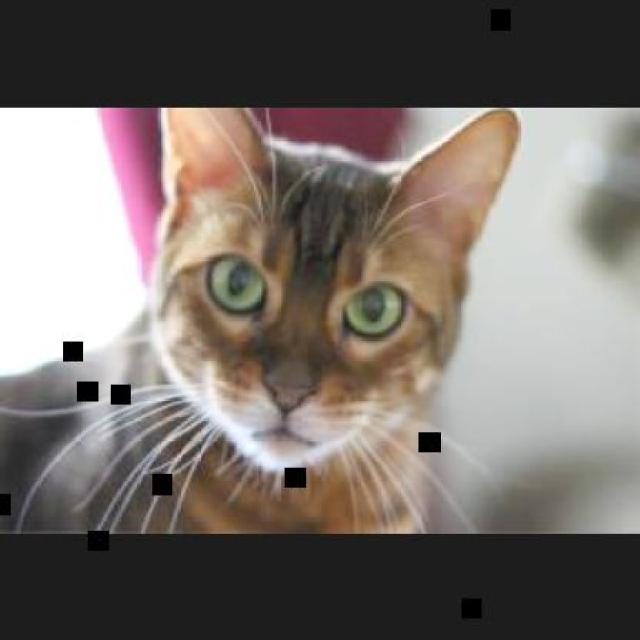unauthorized: (0, 106, 522, 534)
